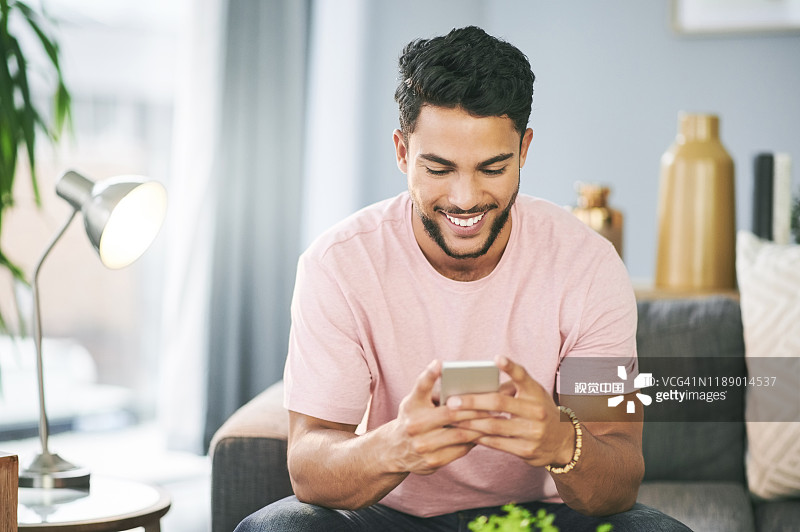reading: (372, 341, 579, 496)
